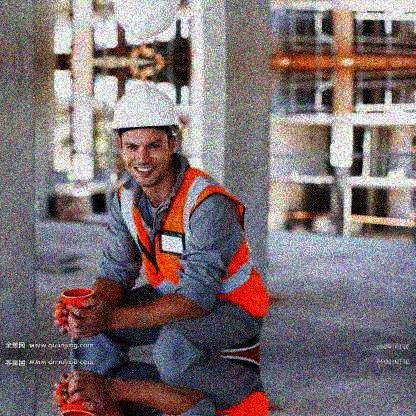helmet: (110, 84, 184, 188)
